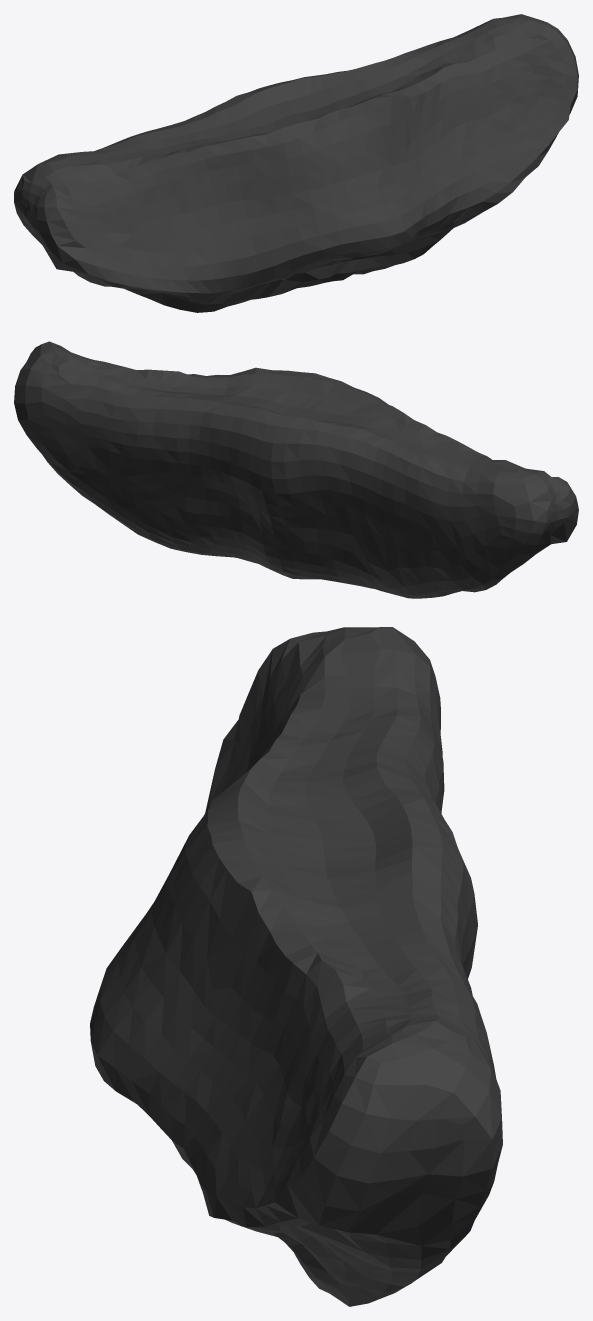
Rendered from sesamoid_dist.glb.
3 views of the same model, one above another, from view 1: azimuth 30°, elevation 25°; view 2: azimuth 150°, elevation 25°; view 3: azimuth 270°, elevation 25° (orthographic). The views are drawn at different scales.
Visible parts, largest first — view 1: sesamoid_dist; view 2: sesamoid_dist; view 3: sesamoid_dist.
Part boxes in pixels (x1,y1,x2,y2): sesamoid_dist: [14, 14, 578, 312]; sesamoid_dist: [14, 341, 578, 598]; sesamoid_dist: [90, 627, 502, 1306].
Size of the model in its own units: 1.84 by 0.6232 by 0.6221.
1 material, 1 textured.
